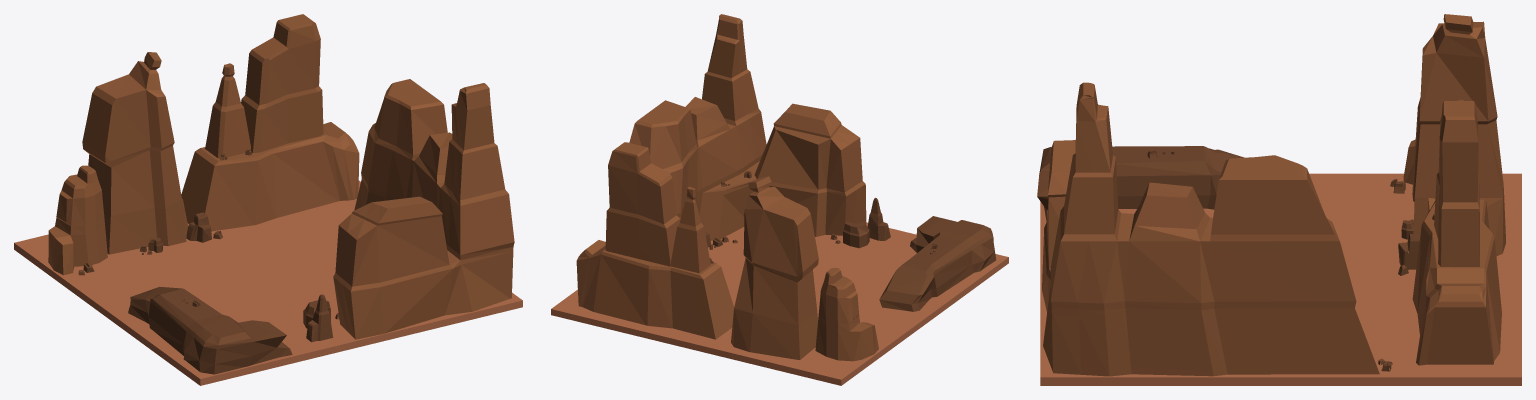
The model's file is map.obj.
3 renders of one model, left to right at view 1: azimuth 30°, elevation 25°; view 2: azimuth 150°, elevation 25°; view 3: azimuth 270°, elevation 25°, orthographic. The views are drawn at different scales.
Visible parts, largest first — view 1: Cube.008_meshId14_name, Cube_meshId16_name, Cube.018_meshId13_name; view 2: Cube.008_meshId14_name, Cube_meshId16_name, Cube.018_meshId13_name; view 3: Cube.008_meshId14_name, Cube_meshId16_name, Cube.018_meshId13_name.
Part boxes in pixels (box(x1,y1,x2,y2)): Cube.008_meshId14_name: box(48, 14, 514, 339); Cube_meshId16_name: box(14, 180, 522, 385); Cube.018_meshId13_name: box(78, 149, 339, 374); Cube.008_meshId14_name: box(576, 14, 878, 361); Cube_meshId16_name: box(551, 222, 1008, 385); Cube.018_meshId13_name: box(705, 171, 996, 311); Cube.008_meshId14_name: box(1042, 14, 1505, 376); Cube_meshId16_name: box(1040, 173, 1521, 385); Cube.018_meshId13_name: box(1037, 146, 1434, 371).
Size of the model in its own units: 127 by 80.69 by 127.
